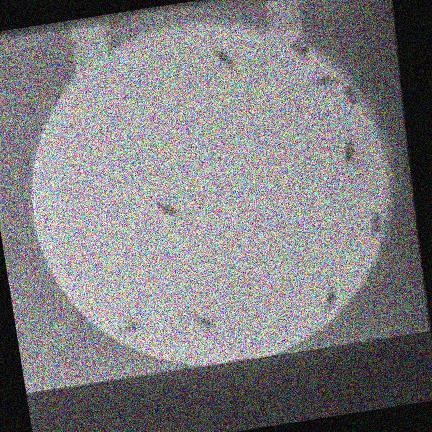fly: (213, 49, 237, 68), (193, 314, 215, 331), (157, 201, 179, 218), (290, 41, 309, 60), (342, 85, 359, 106), (324, 287, 337, 312), (119, 320, 139, 336), (313, 76, 340, 87), (371, 211, 382, 238), (344, 139, 354, 165)
